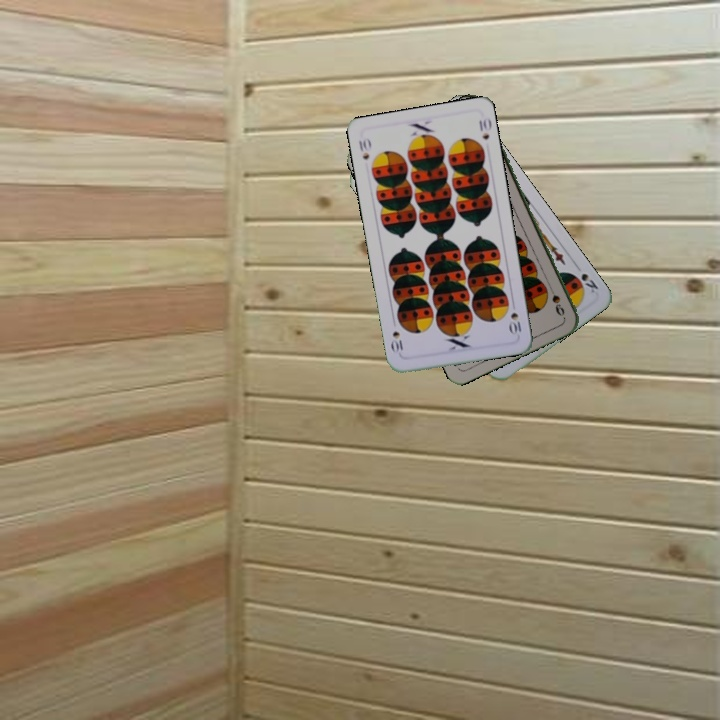S10: (505, 298, 525, 337), (355, 134, 373, 162)
S9: (545, 281, 567, 319)
SK: (577, 269, 601, 297)
